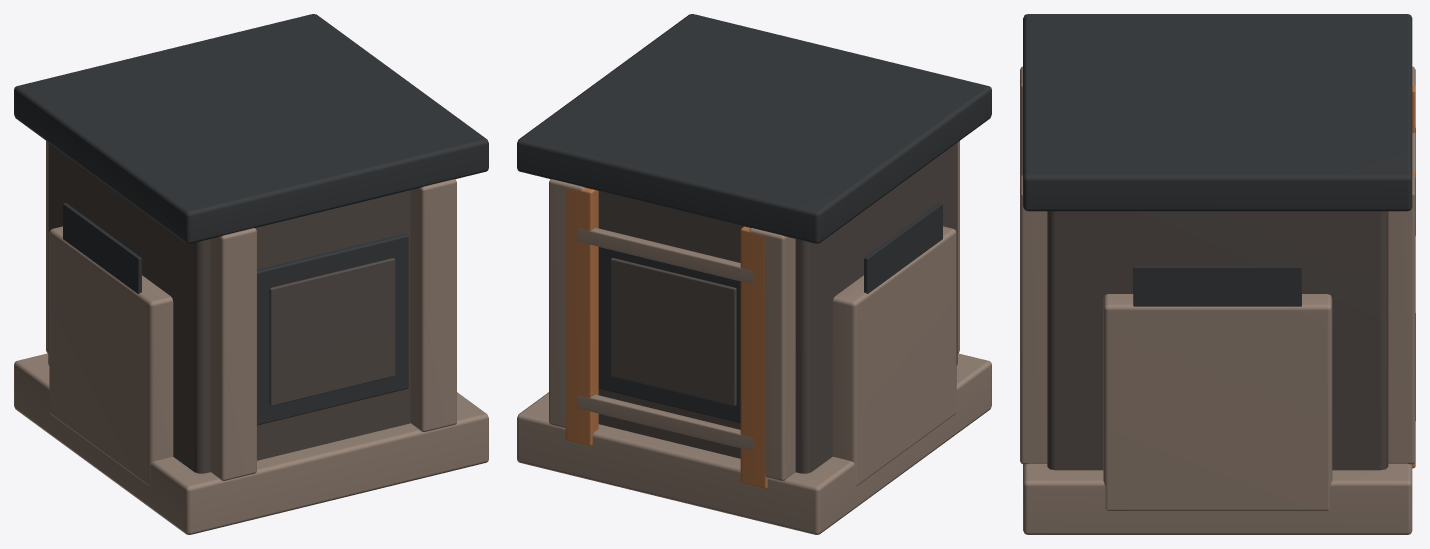
File: refinery-1.glb
3 renders of one model, left to right at view 1: azimuth 30°, elevation 25°; view 2: azimuth 150°, elevation 25°; view 3: azimuth 270°, elevation 25°, orthographic. The views are drawn at different scales.
Parts seen in each view (by area): view 1: refinery_2.001, refinery_1.001, refinery_0.001; view 2: refinery_2.001, refinery_1.001, refinery_0.001, refinery_3.001; view 3: refinery_2.001, refinery_1.001, refinery_0.001.
Part boxes in pixels (box(x1,y1,x2,y2)): refinery_2.001: box(14, 14, 488, 425); refinery_1.001: box(14, 141, 488, 534); refinery_0.001: box(48, 142, 410, 473); refinery_2.001: box(517, 14, 991, 423); refinery_1.001: box(517, 141, 991, 534); refinery_0.001: box(598, 142, 957, 473); refinery_3.001: box(565, 188, 767, 488); refinery_2.001: box(1023, 14, 1412, 306); refinery_1.001: box(1020, 66, 1415, 534); refinery_0.001: box(1047, 211, 1388, 470).
Bounding box in the file's own units: 0.975 × 0.99 × 0.986.
